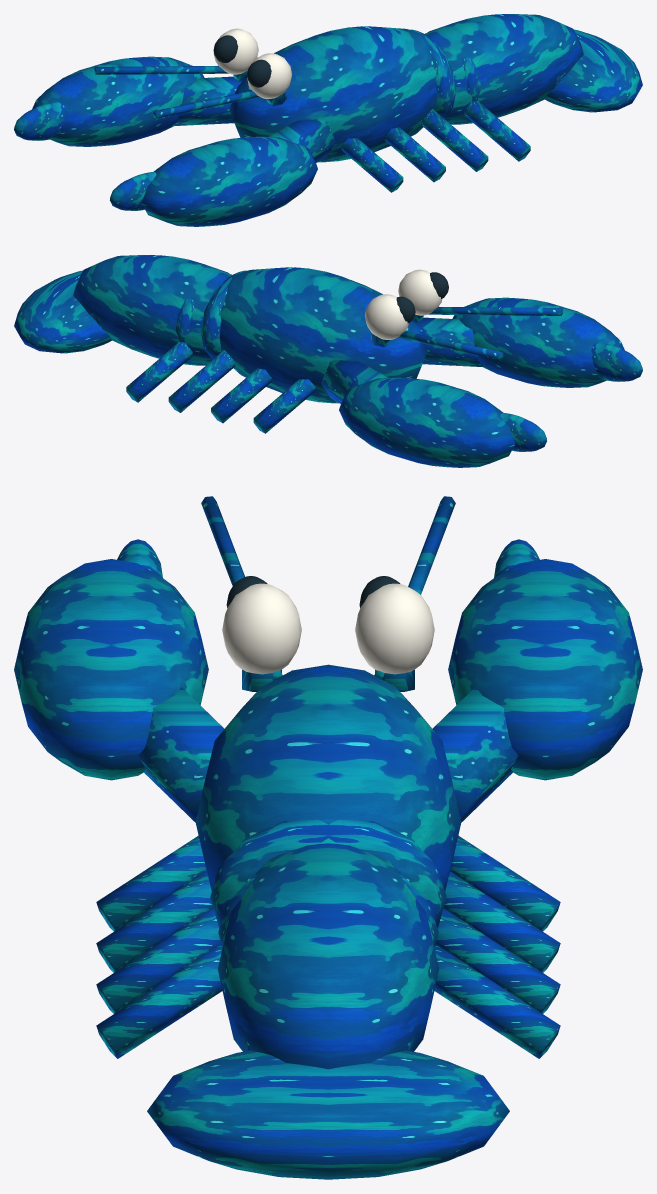
File: lobster-Fb8g-iHA.glb
The picture shows the model from 3 angles, top to bottom: view 1: azimuth 30°, elevation 25°; view 2: azimuth 150°, elevation 25°; view 3: azimuth 270°, elevation 25°; orthographic projection. The views are drawn at different scales.
Parts seen in each view (by area): view 1: lobster_Batch_0, lobster_Tail, lobster_Batch_2, lobster_Batch_3; view 2: lobster_Batch_0, lobster_Tail, lobster_Batch_2, lobster_Batch_3; view 3: lobster_Batch_0, lobster_Tail, lobster_Batch_2.
Part boxes in pixels (<box>): lobster_Batch_0: <box>14,14,583,226</box>; lobster_Tail: <box>545,29,642,112</box>; lobster_Batch_2: <box>213,28,292,98</box>; lobster_Batch_3: <box>213,35,271,87</box>; lobster_Batch_0: <box>73,255,642,467</box>; lobster_Tail: <box>14,270,111,353</box>; lobster_Batch_2: <box>364,269,442,339</box>; lobster_Batch_3: <box>396,272,448,323</box>; lobster_Batch_0: <box>14,496,642,1069</box>; lobster_Tail: <box>147,1050,509,1179</box>; lobster_Batch_2: <box>222,583,434,674</box>.
Bounding box in the file's own units: 2.92 × 0.6549 × 1.42.
Materials: 3 (1 with a texture image).
